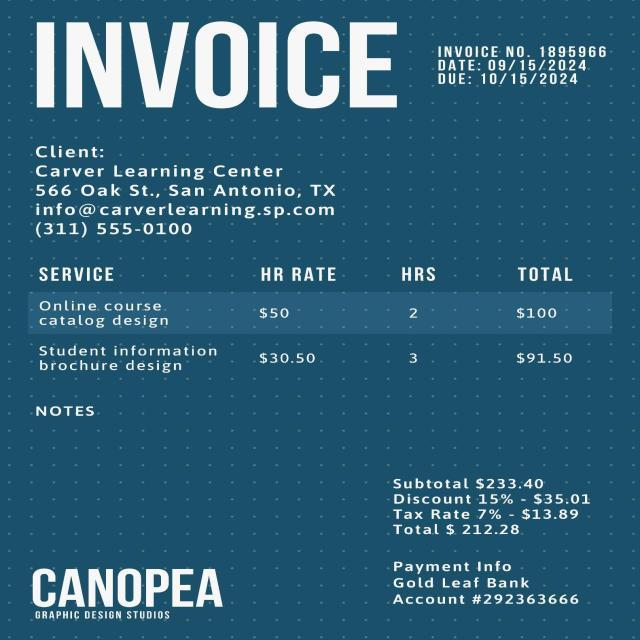ROI: (32, 264, 622, 386), (33, 20, 410, 111), (30, 144, 344, 242), (384, 478, 602, 538), (24, 565, 236, 626), (386, 556, 592, 606), (426, 40, 610, 90), (35, 405, 96, 419)
